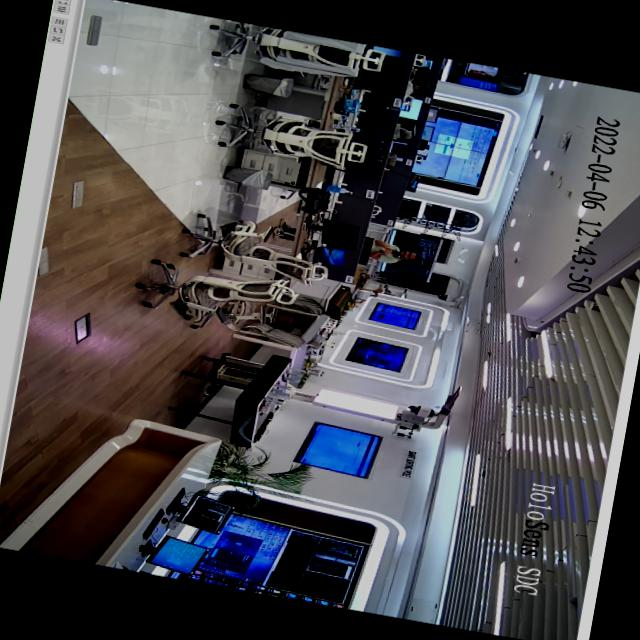long weapon: (378, 244, 412, 262)
